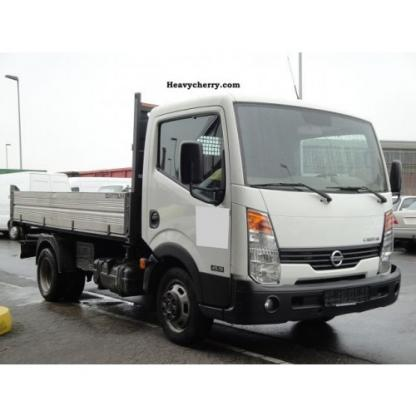dump_truck: (14, 85, 401, 348)
